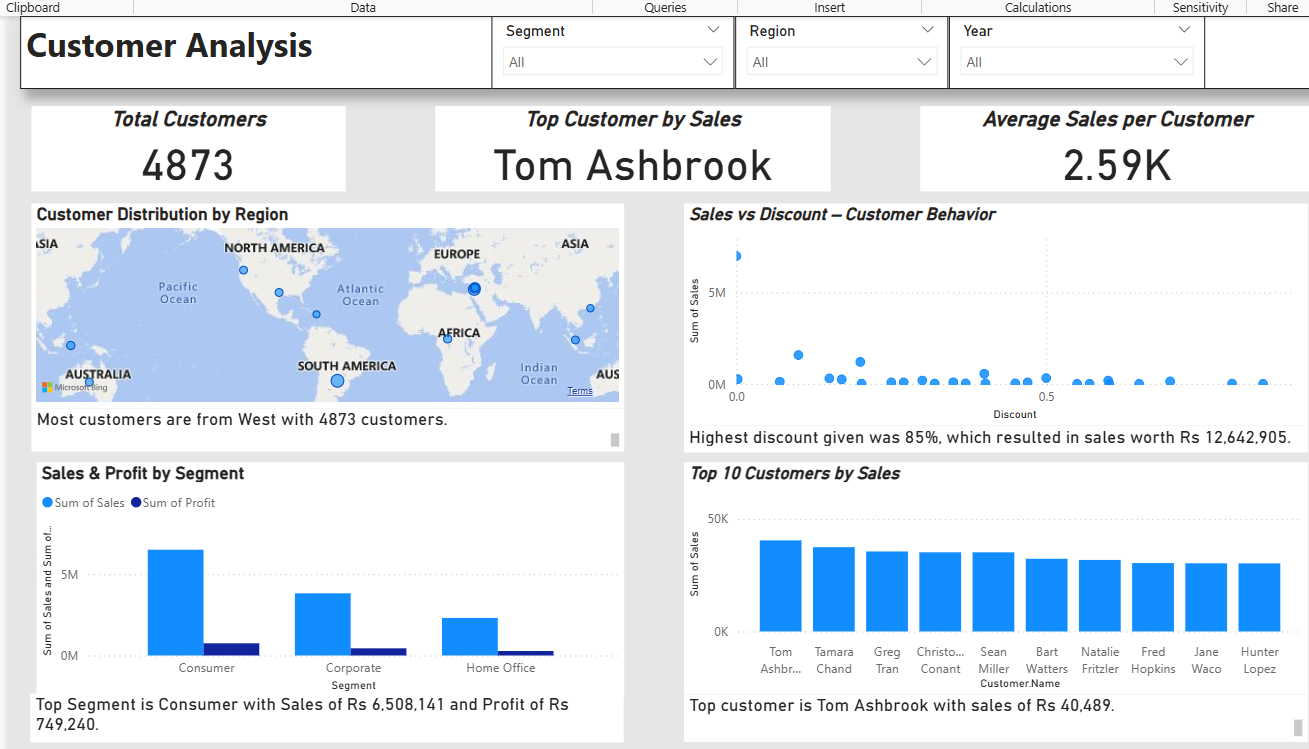

What the dashboard file says about the page in this screenshot:
{"tool":"powerbi","page":{"name":"Customer Analysis","canvas":[1280,720],"ordinal":3},"visuals":[{"type":"textbox","box":[10.8,0,1249.3,70.2],"z":0},{"type":"card","title":"Total Customers","fields":{"Values":["DateTable.Total Customers"]},"box":[21.7,86.9,302.8,82],"z":1000},{"type":"card","title":"Top Customer by Sales","fields":{"Values":["DateTable.Top Customer"]},"box":[411.4,86.9,381.2,82],"z":2000},{"type":"card","title":"Average Sales per Customer","fields":{"Values":["DateTable.Avg Sales per Customer"]},"box":[879.5,86.9,380,82],"z":3000},{"type":"clusteredColumnChart","title":"Sales & Profit by Segment","fields":{"Category":["superstore.Segment"],"Y":["Sum(superstore.Sales)","Sum(superstore.Profit)"]},"box":[26.1,430.7,567,226.5],"z":4000,"group":"g2"},{"type":"map","title":"Customer Distribution by Region","fields":{"Size":["Count(superstore.Customer.ID)"],"Category":["superstore.Region"]},"box":[21.7,181,571.9,197.3],"z":5000,"group":"g1"},{"type":"columnChart","title":"Top 10 Customers by Sales","fields":{"Category":["superstore.Customer.Name"],"Y":["Sum(superstore.Sales)"]},"box":[651.5,430.7,602,224.3],"z":6000,"group":"g4"},{"type":"scatterChart","title":"Sales vs Discount – Customer Behavior","fields":{"X":["superstore.Discount"],"Y":["Sum(superstore.Sales)"]},"box":[651.5,181,602,214.2],"z":7000,"group":"g3"},{"type":"textbox","box":[651.5,655,602,45.9],"z":8000,"group":"g4"},{"type":"textbox","box":[20.5,654,573.1,47],"z":9000,"group":"g2"},{"type":"slicer","fields":{"Values":["superstore.order_date.Variation.Date Hierarchy.Year"]},"box":[907.1,0,247.1,70],"z":10000},{"type":"slicer","fields":{"Values":["superstore.Segment"]},"box":[465.7,0,234.3,70],"z":11000},{"type":"slicer","fields":{"Values":["superstore.Region"]},"box":[701.4,0,205.7,70],"z":12000},{"type":"textbox","box":[21.7,378.3,571.9,41.6],"z":12001,"group":"g1"},{"type":"textbox","box":[651.5,395.2,602,25.9],"z":12002,"group":"g3"},{"type":"group","id":"g1","title":"Group 1","box":[21.7,181,571.9,240.1],"z":12003},{"type":"group","id":"g2","title":"Group 2","box":[20.5,430.7,573.1,270.2],"z":12004},{"type":"group","id":"g3","title":"Group 3","box":[651.5,181,602,240.1],"z":12005},{"type":"group","id":"g4","title":"Group 4","box":[651.5,430.7,602,270.2],"z":12006}]}

Visuals, with their boxes on the page's 1280x720 design canvas (x1, y1, x2, y2). These are canvas units, not pixel positions in the 1309x749 screenshot, which may show the page scaled, cropped or inside an application window:
textbox: (11,0,1260,70)
"Total Customers" card: (22,87,324,169)
"Top Customer by Sales" card: (411,87,793,169)
"Average Sales per Customer" card: (880,87,1260,169)
"Sales & Profit by Segment" clusteredColumnChart: (26,431,593,657)
"Customer Distribution by Region" map: (22,181,594,378)
"Top 10 Customers by Sales" columnChart: (652,431,1254,655)
"Sales vs Discount – Customer Behavior" scatterChart: (652,181,1254,395)
textbox: (652,655,1254,701)
textbox: (20,654,594,701)
slicer - superstore.order_date.Variation.Date Hierarchy.Year: (907,0,1154,70)
slicer - superstore.Segment: (466,0,700,70)
slicer - superstore.Region: (701,0,907,70)
textbox: (22,378,594,420)
textbox: (652,395,1254,421)
"Group 1" group: (22,181,594,421)
"Group 2" group: (20,431,594,701)
"Group 3" group: (652,181,1254,421)
"Group 4" group: (652,431,1254,701)
